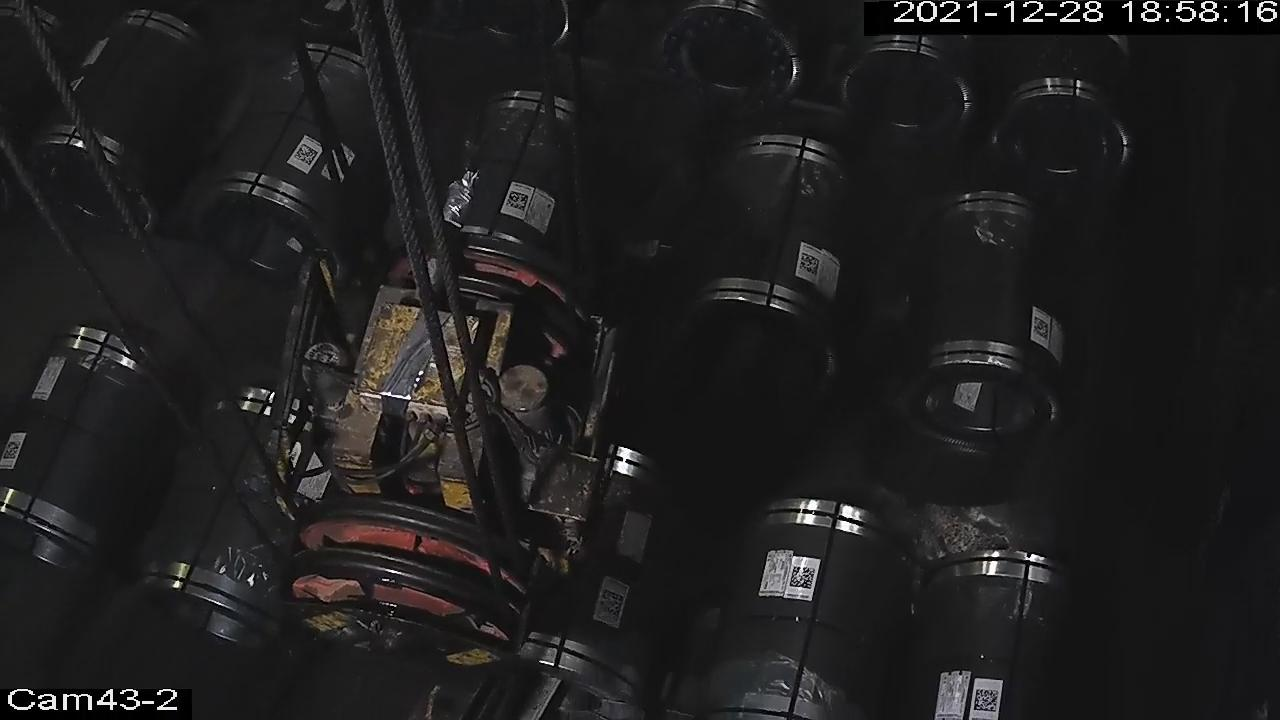data matrix: (594, 587, 631, 622), (788, 563, 820, 593), (972, 687, 1003, 714), (503, 189, 533, 215), (293, 143, 321, 168), (798, 252, 823, 280), (1031, 316, 1053, 343), (2, 440, 24, 461)
